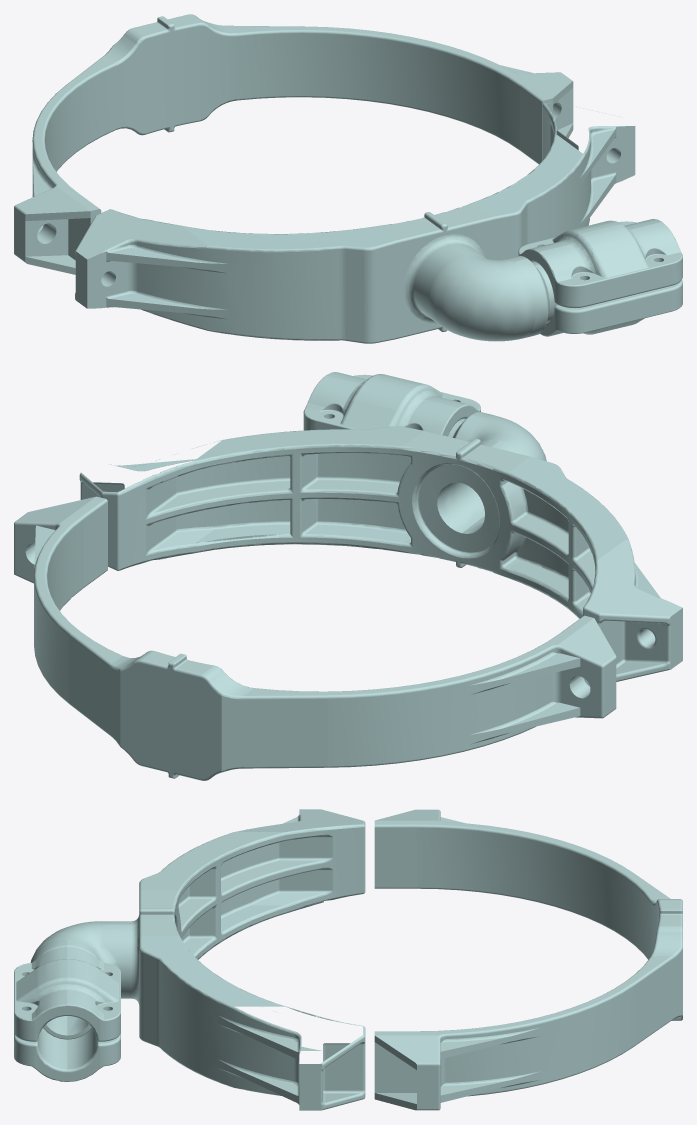
3 views of the same model, one above another, from view 1: azimuth 30°, elevation 25°; view 2: azimuth 150°, elevation 25°; view 3: azimuth 270°, elevation 25° (orthographic). The views are drawn at different scales.
Size of the model in its own units: 259 by 48.57 by 288.
